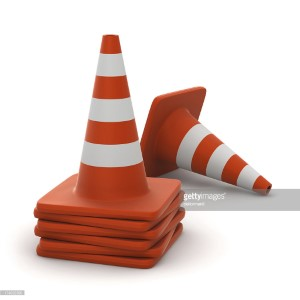traffic cone: (37, 34, 181, 222), (138, 86, 272, 196)
